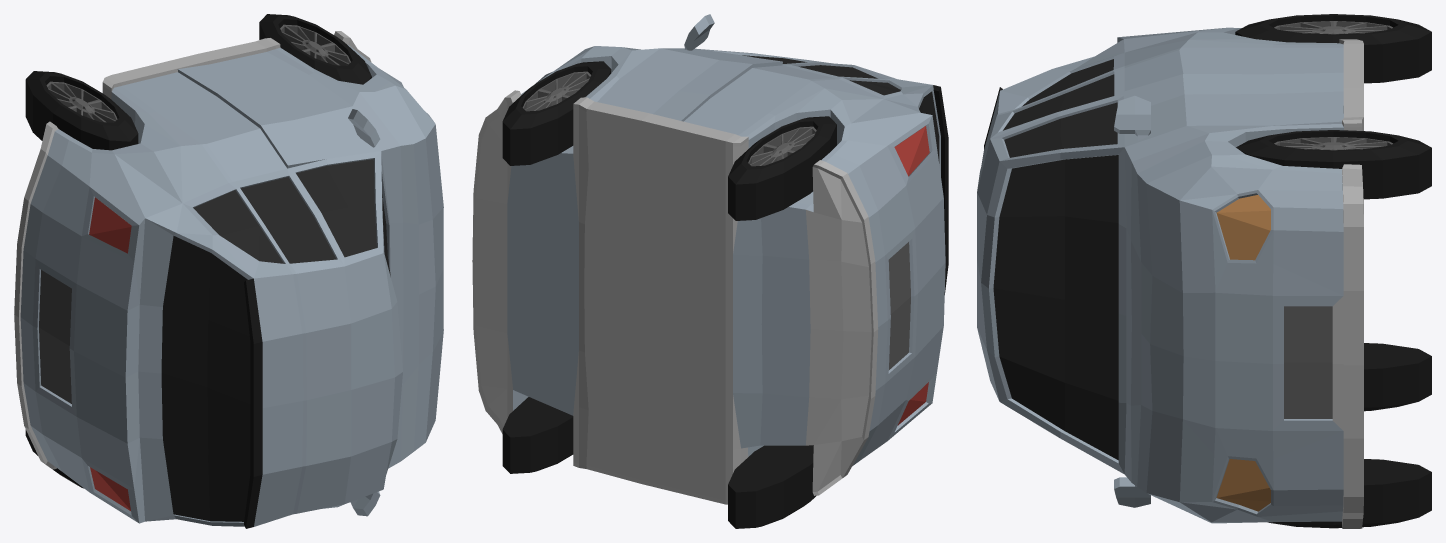
File: hatchback.glb
3 views of the same model, side by side, from view 1: azimuth 30°, elevation 25°; view 2: azimuth 150°, elevation 25°; view 3: azimuth 270°, elevation 25° (orthographic). The views are drawn at different scales.
Parts seen in each view (by area): view 1: vehicle/hatchback; view 2: vehicle/hatchback; view 3: vehicle/hatchback.
Part boxes in pixels (box(x1,y1,x2,y2)): vehicle/hatchback: box(14, 14, 443, 528); vehicle/hatchback: box(472, 14, 948, 528); vehicle/hatchback: box(977, 14, 1431, 528).
Bounding box in the file's own units: 1 × 1 × 1.
